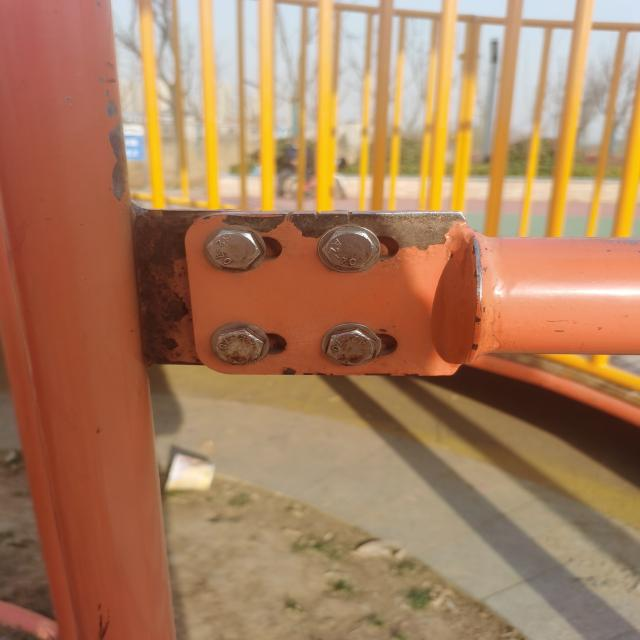bolt head: (203, 225, 264, 273), (319, 228, 379, 271), (212, 324, 268, 366), (324, 325, 378, 368)
